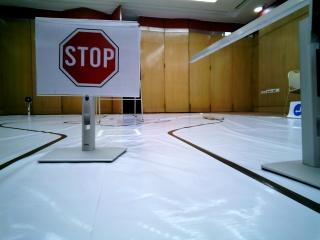stop: (46, 23, 138, 93)
